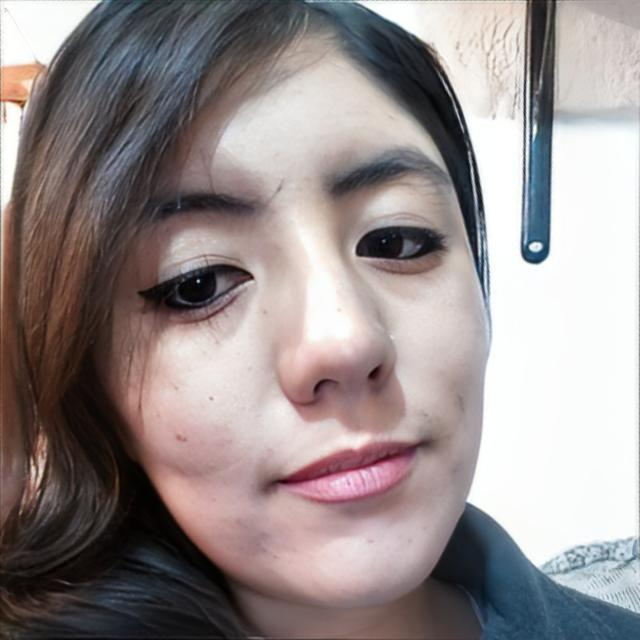content: (89, 23, 493, 612)
